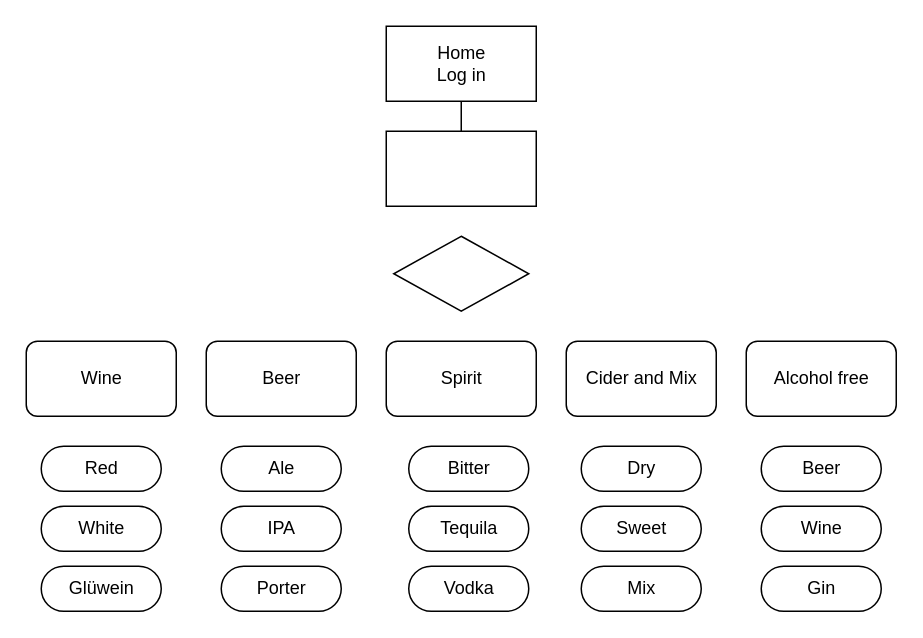
Some shapes in this 923 by 638 pixel diagram are drawn without their labels. Here are the shapes that lost their labels. From the top down, the centre of each, then its label:
At [460,168]: "Inventory".
At [460,273]: "search bar".
